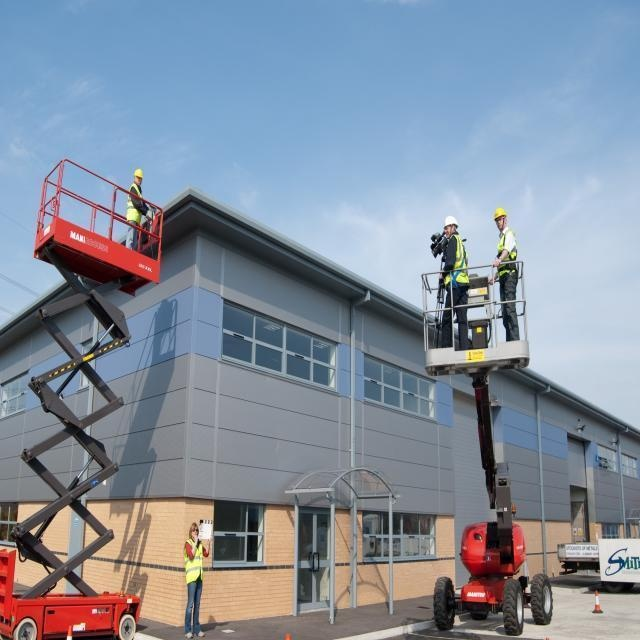Arnes_seguridad: (445, 234, 467, 294)
